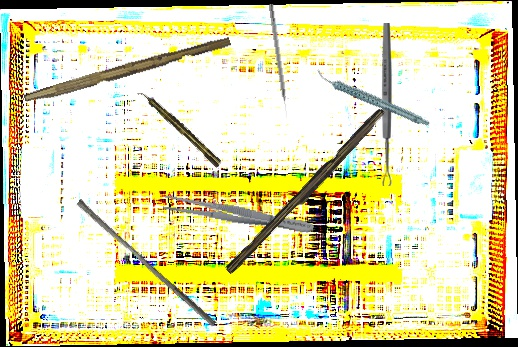Dressing Forceps: (162, 192, 315, 238)
Handpiece: (314, 48, 432, 148), (136, 86, 224, 170)
Hook Surgical: (267, 3, 290, 119)
Pusher: (71, 198, 222, 328)
Scalpel Handle: (224, 104, 389, 280), (23, 32, 232, 109)
Surgical Spoon: (381, 23, 392, 186)
